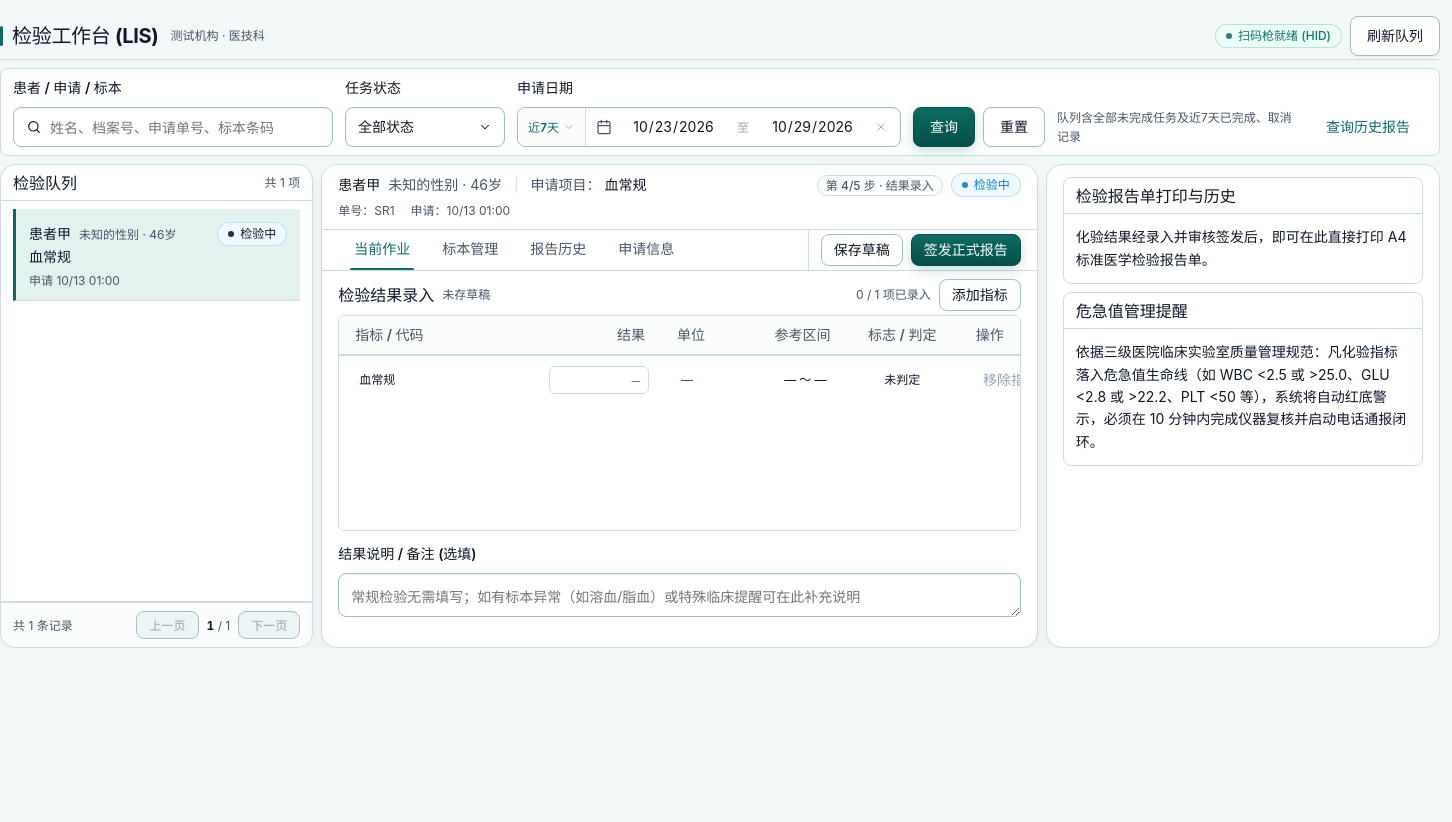
Test case: simple diagnostic business workbench › preserves report draft across work and report history tabs
Type "9.8" into the field named "指标1结果" at (599, 380), box [549, 366, 649, 394]
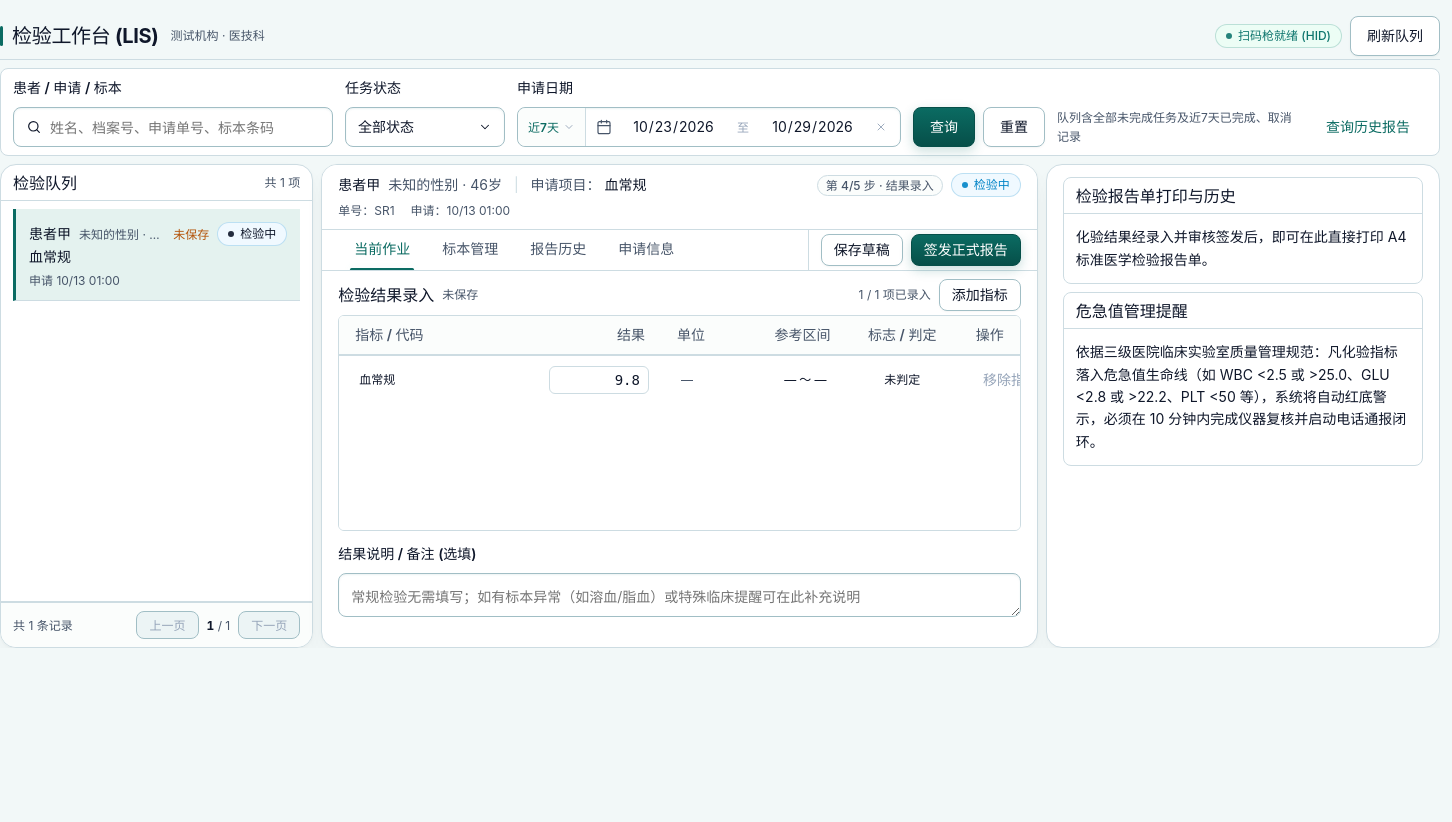
Click the tab "报告历史" at (558, 250), box [514, 230, 602, 270]
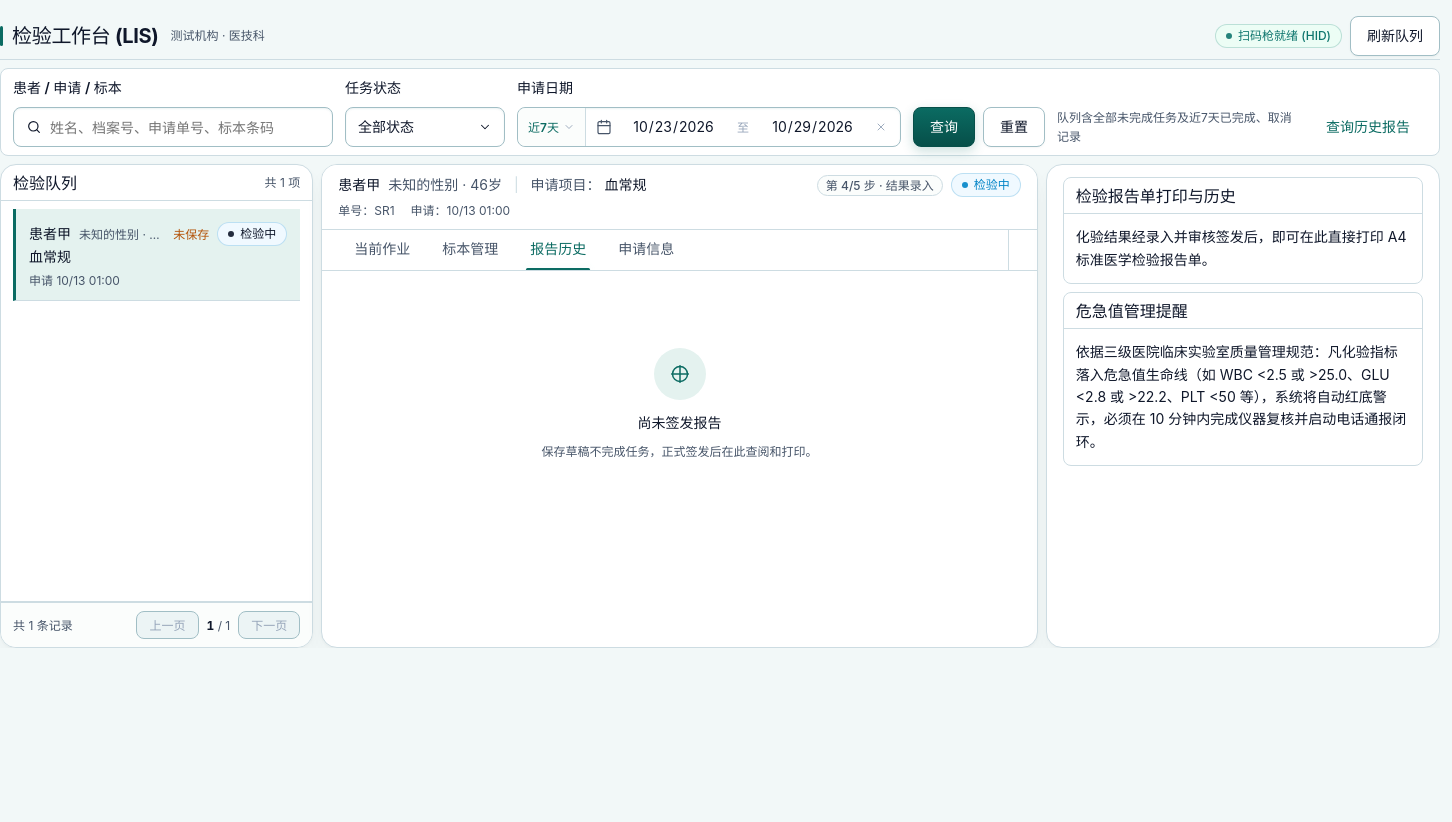
Result: the text "尚未签发报告" is shown at [638, 412, 722, 434]
Result: the field labelled "指标1结果" is gone
Click the tab "当前作业" at (382, 250), box [338, 230, 426, 270]
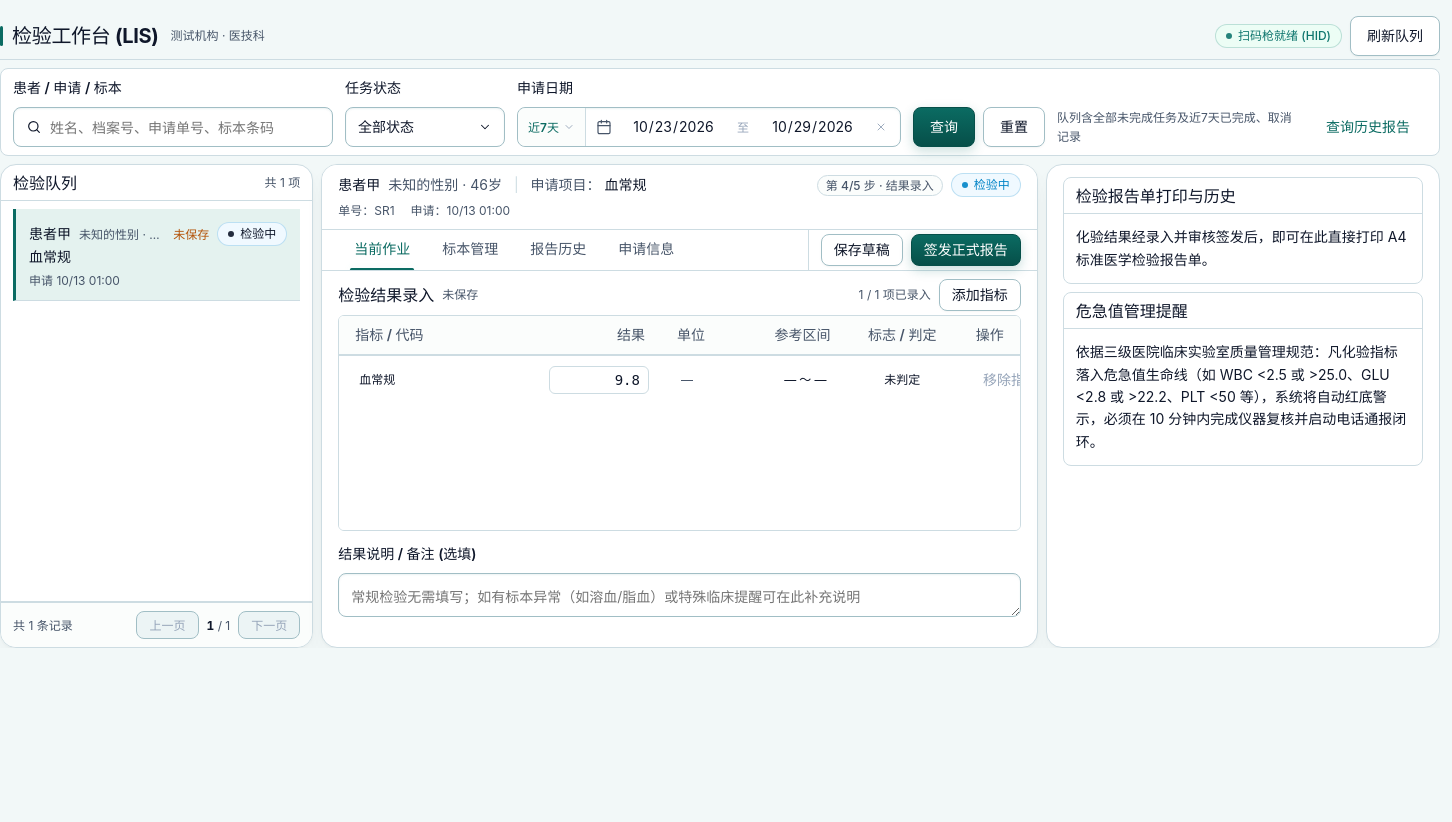
Result: the field named "指标1结果" holds "9.8" at [549, 366, 649, 394]
